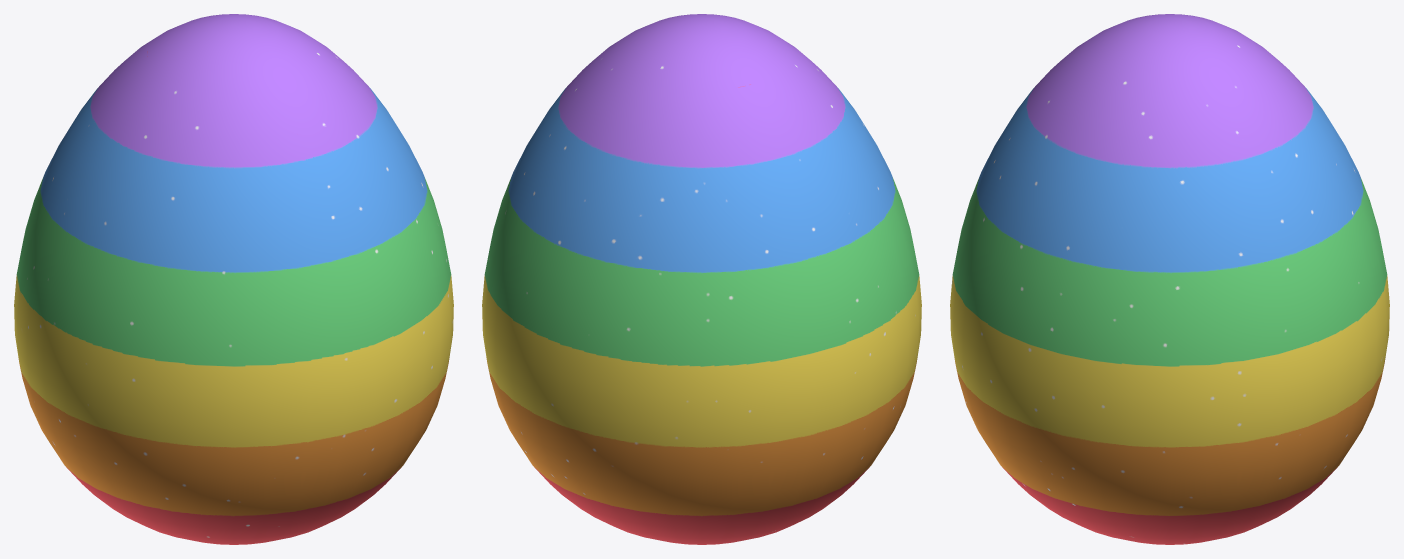
Rendered from Rainbow Egg.fbx.
3 renders of one model, left to right at view 1: azimuth 30°, elevation 25°; view 2: azimuth 150°, elevation 25°; view 3: azimuth 270°, elevation 25°, orthographic.
Parts seen in each view (by area): view 1: Rainbow Egg; view 2: Rainbow Egg; view 3: Rainbow Egg.
Part boxes in pixels (box(x1,y1,x2,y2)): Rainbow Egg: box(14, 14, 453, 544); Rainbow Egg: box(482, 14, 921, 544); Rainbow Egg: box(950, 14, 1389, 544).
Size of the model in its own units: 4 by 5 by 4.
Materials: 1 (1 with a texture image).
